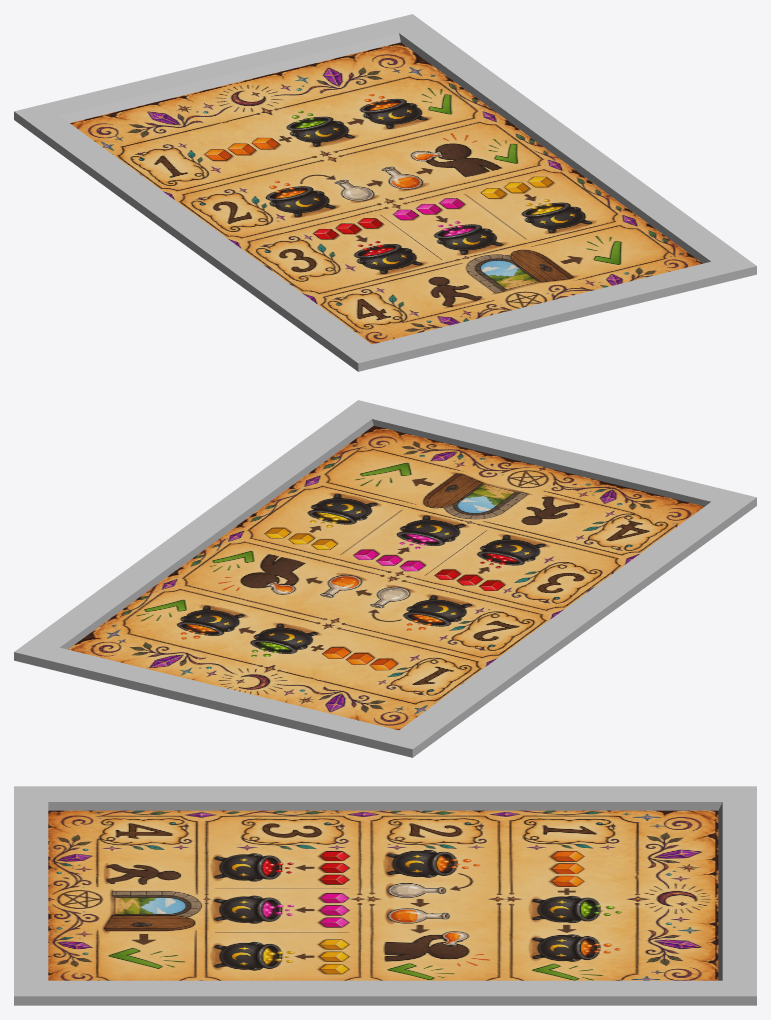
The model's file is Obraz_instrukcja.fbx.
The picture shows the model from 3 angles, top to bottom: view 1: azimuth 30°, elevation 25°; view 2: azimuth 150°, elevation 25°; view 3: azimuth 270°, elevation 25°; orthographic projection. The views are drawn at different scales.
Visible parts, largest first — view 1: Ramka2; view 2: Ramka2; view 3: Ramka2.
Part boxes in pixels (box(x1,y1,x2,y2)): Ramka2: box(14, 14, 756, 371); Ramka2: box(14, 400, 756, 757); Ramka2: box(14, 786, 756, 1005).
Bounding box in the file's own units: 0.4122 × 0.00842 × 0.6163.
